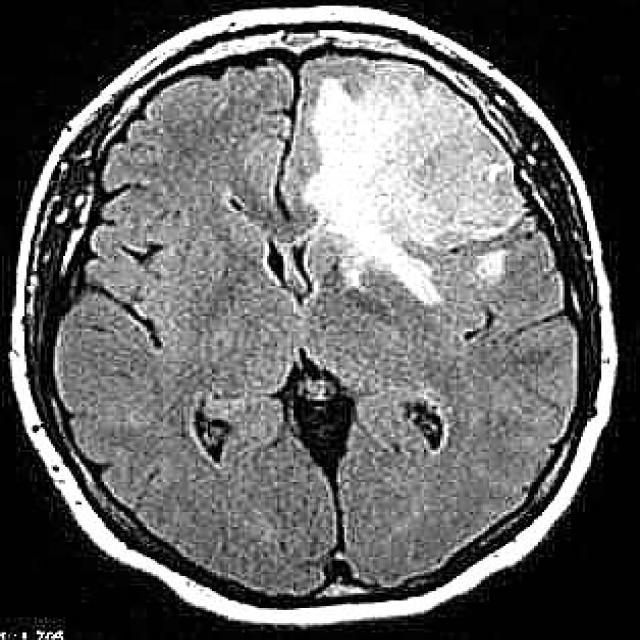Tumor-Cell: (312, 65, 497, 282)
